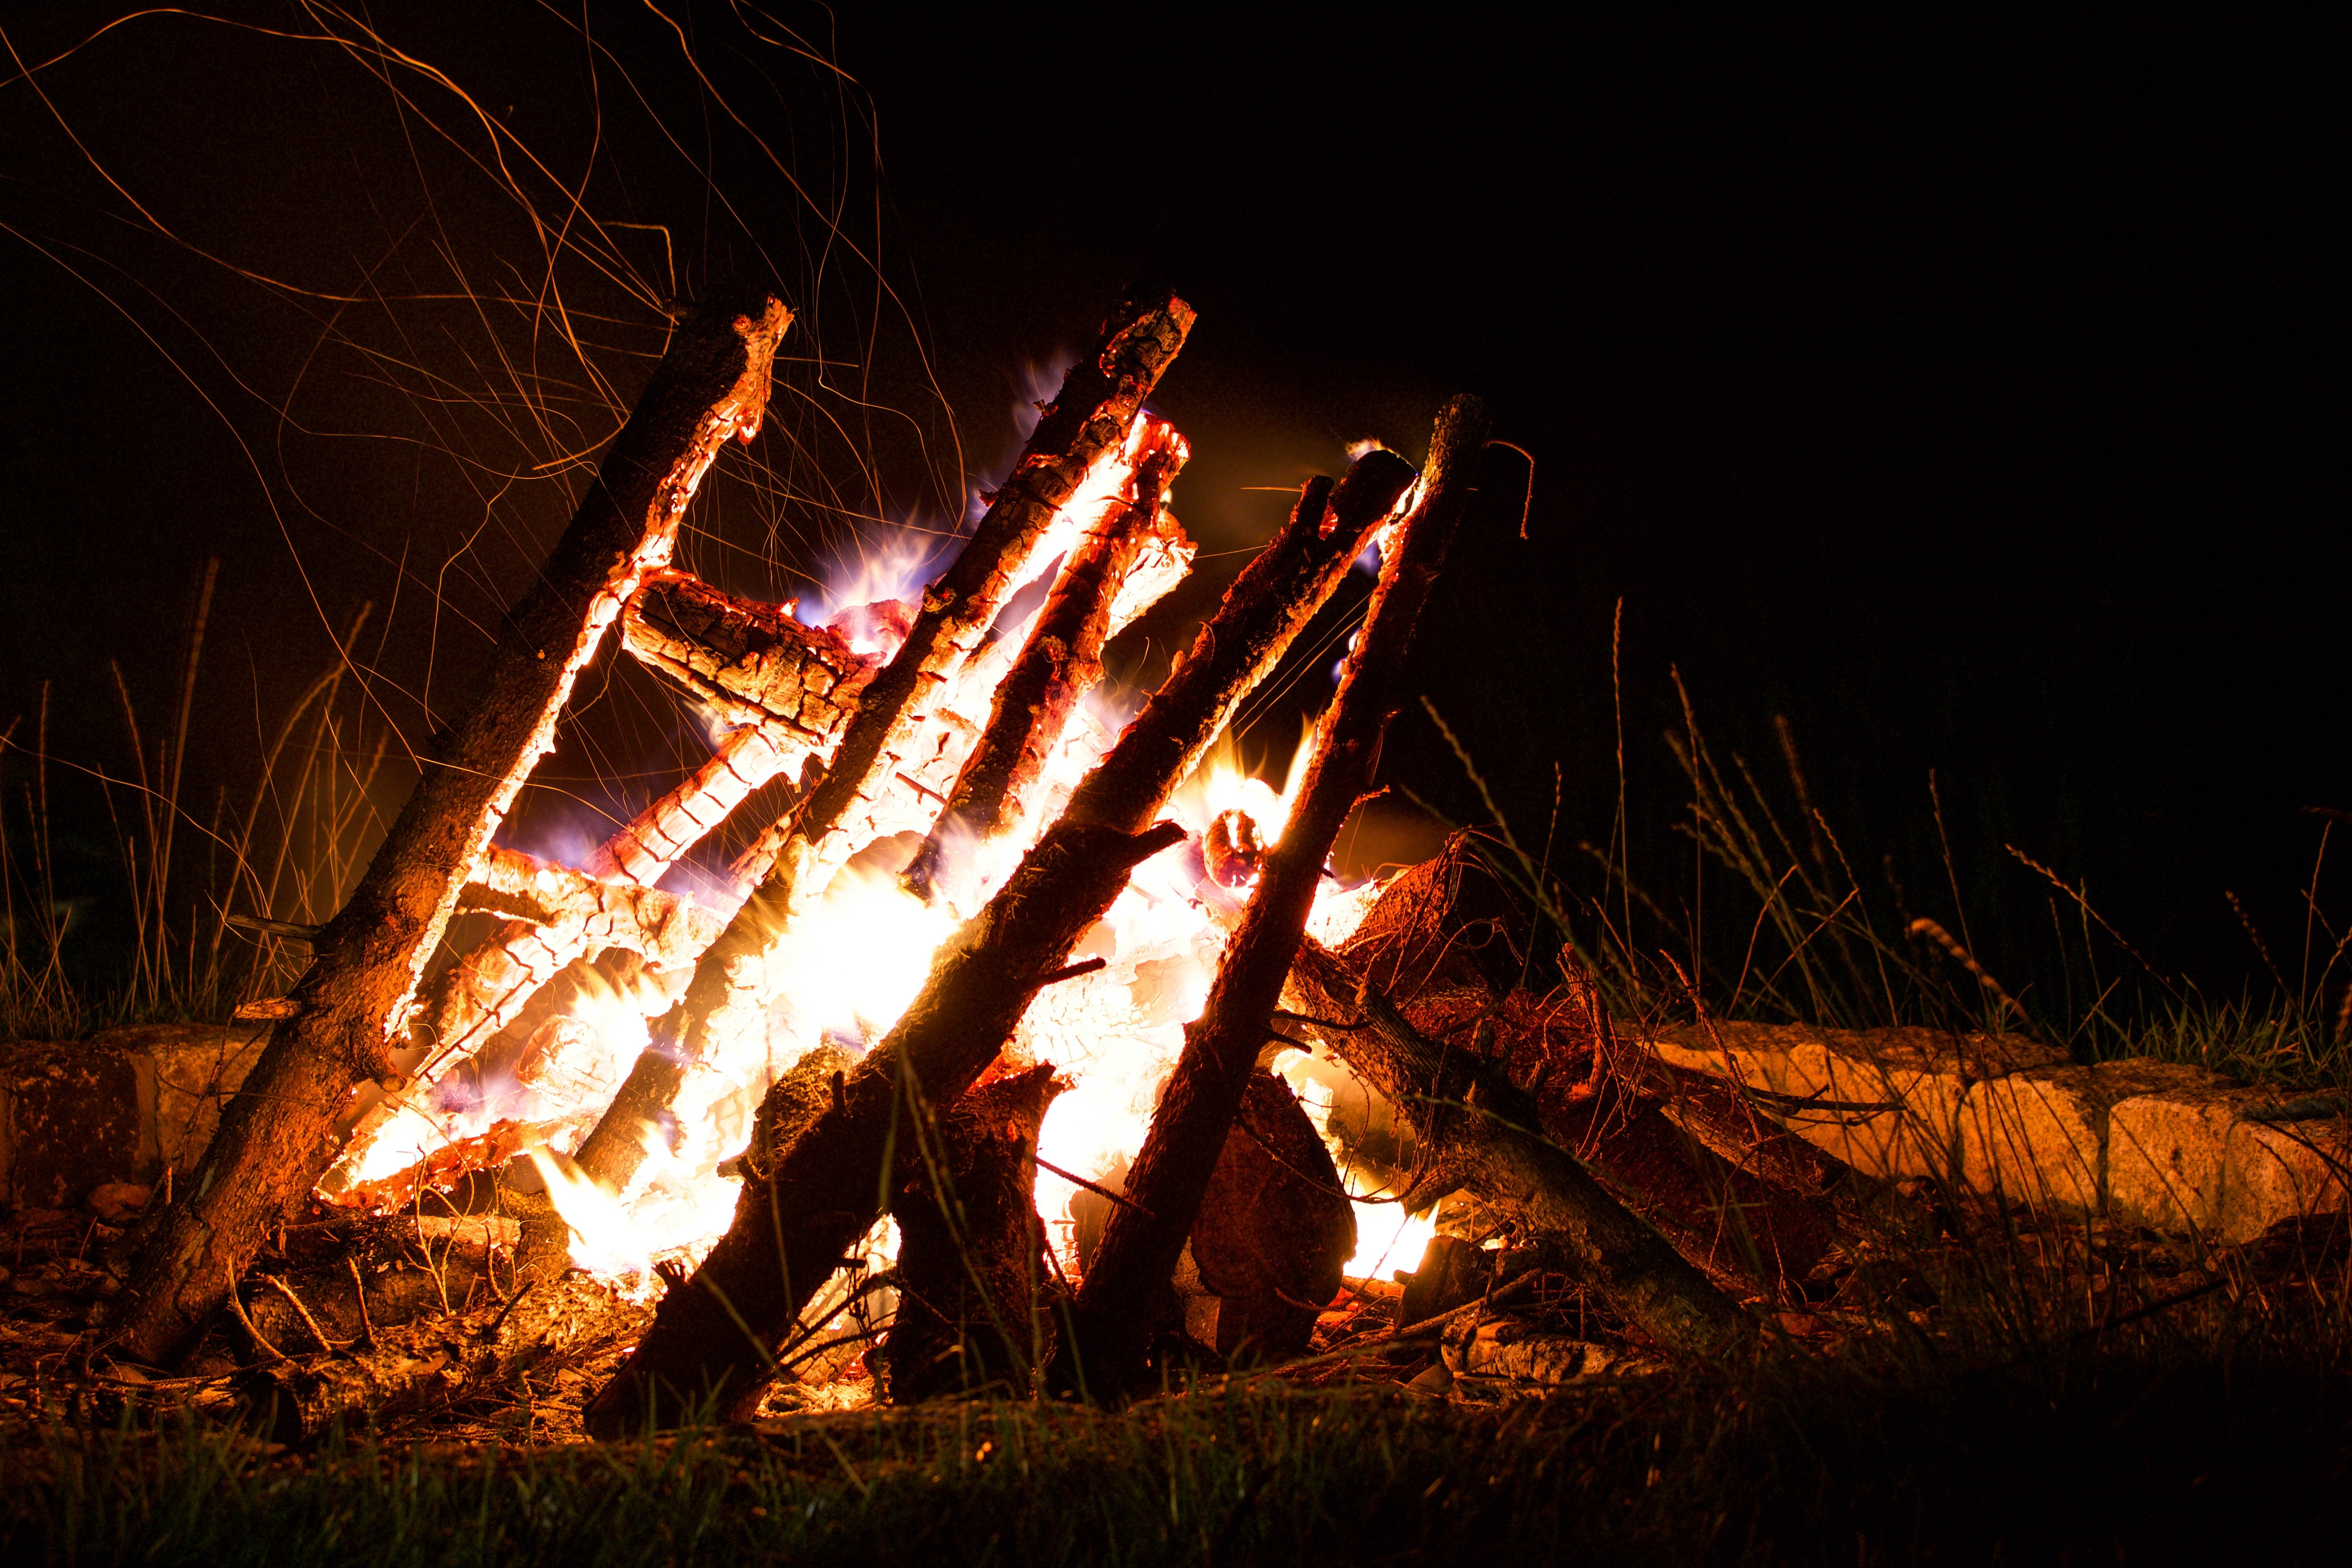fire: (289, 296, 1682, 1424)
